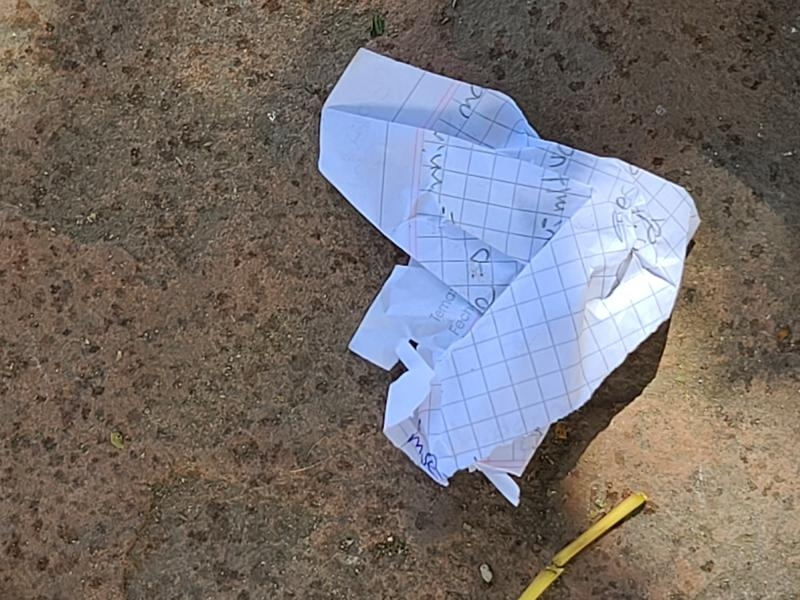papel: (316, 48, 702, 505)
